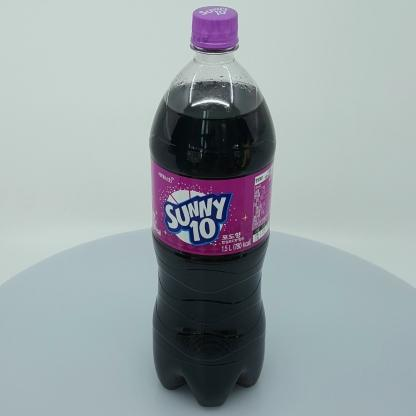-----------1-5L: (149, 6, 277, 407)
